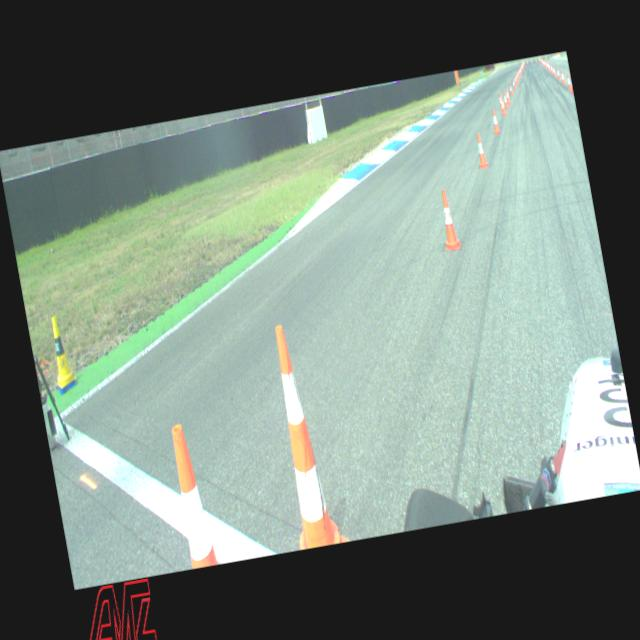large_orange_cone: (260, 320, 350, 550), (168, 422, 218, 569)
orange_cone: (435, 188, 461, 250), (474, 132, 488, 168), (490, 109, 500, 134), (499, 96, 507, 115), (504, 87, 512, 103), (502, 90, 509, 108), (497, 92, 503, 110), (566, 74, 572, 90), (560, 70, 566, 84), (556, 67, 561, 80), (508, 82, 513, 95), (512, 77, 516, 89), (552, 65, 556, 76), (514, 74, 518, 85)
yellow_cone: (46, 315, 76, 388)
